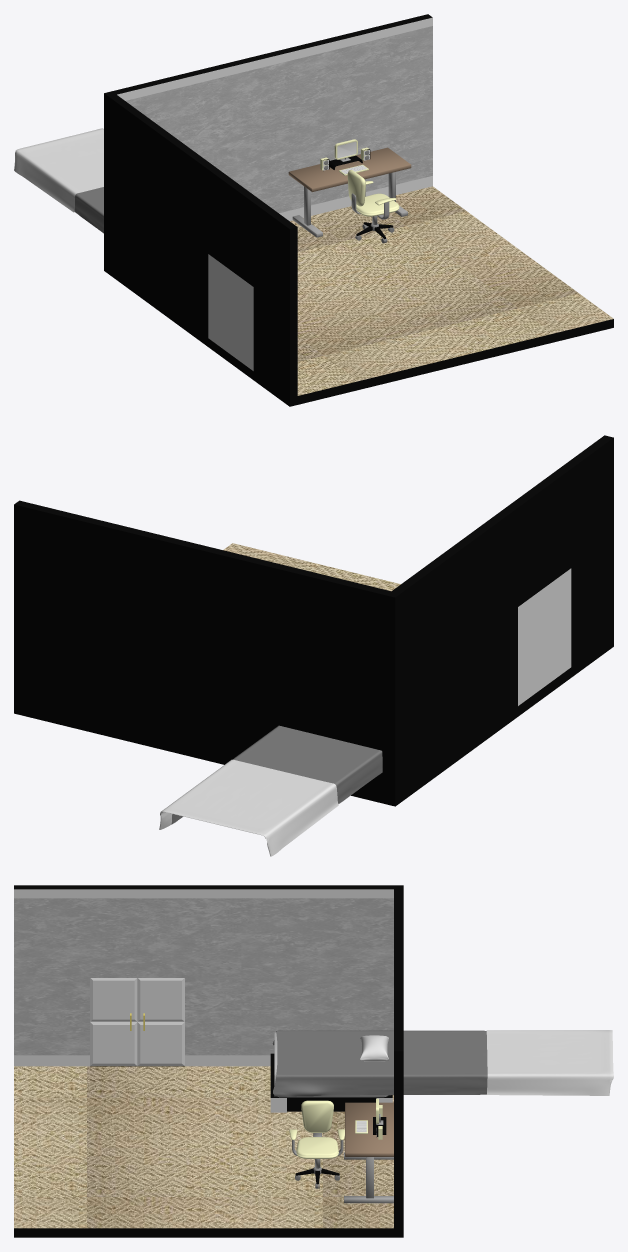
The model's file is RoomBBB.glb.
3 renders of one model, top to bottom at view 1: azimuth 30°, elevation 25°; view 2: azimuth 150°, elevation 25°; view 3: azimuth 270°, elevation 25°, orthographic. The views are drawn at different scales.
Visible parts, largest first — view 1: Cube.001, Duvet.001, Plane, Cube.003, Cube.002, Plane.001; view 2: Cube.001, Duvet.001, Cube.002, Cube.003; view 3: Cube.001, Duvet.001, Cube.002, Cube.003, Plane, Cube.004, Plane.005, Plane.001, Pillow.001, Cube.
Boxes of the visible parts, <box> form: Cube.001: <box>104,14,613,406</box>; Duvet.001: <box>14,128,103,233</box>; Plane: <box>288,147,411,192</box>; Cube.003: <box>208,254,230,354</box>; Cube.002: <box>231,271,253,370</box>; Plane.001: <box>351,193,399,216</box>; Cube.001: <box>14,435,613,806</box>; Duvet.001: <box>159,725,382,856</box>; Cube.002: <box>544,568,571,686</box>; Cube.003: <box>518,588,544,705</box>; Cube.001: <box>14,885,403,1237</box>; Duvet.001: <box>272,1030,613,1096</box>; Cube.002: <box>90,978,137,1065</box>; Cube.003: <box>137,978,184,1065</box>; Plane: <box>345,1102,393,1156</box>; Cube.004: <box>270,1053,392,1112</box>; Plane.005: <box>301,1100,333,1132</box>; Plane.001: <box>296,1137,338,1158</box>; Pillow.001: <box>360,1035,388,1061</box>; Cube: <box>344,1152,393,1203</box>.
Size of the model in its own units: 4.02 by 2.1 by 6.14.
Materials: 19 (2 with a texture image).
